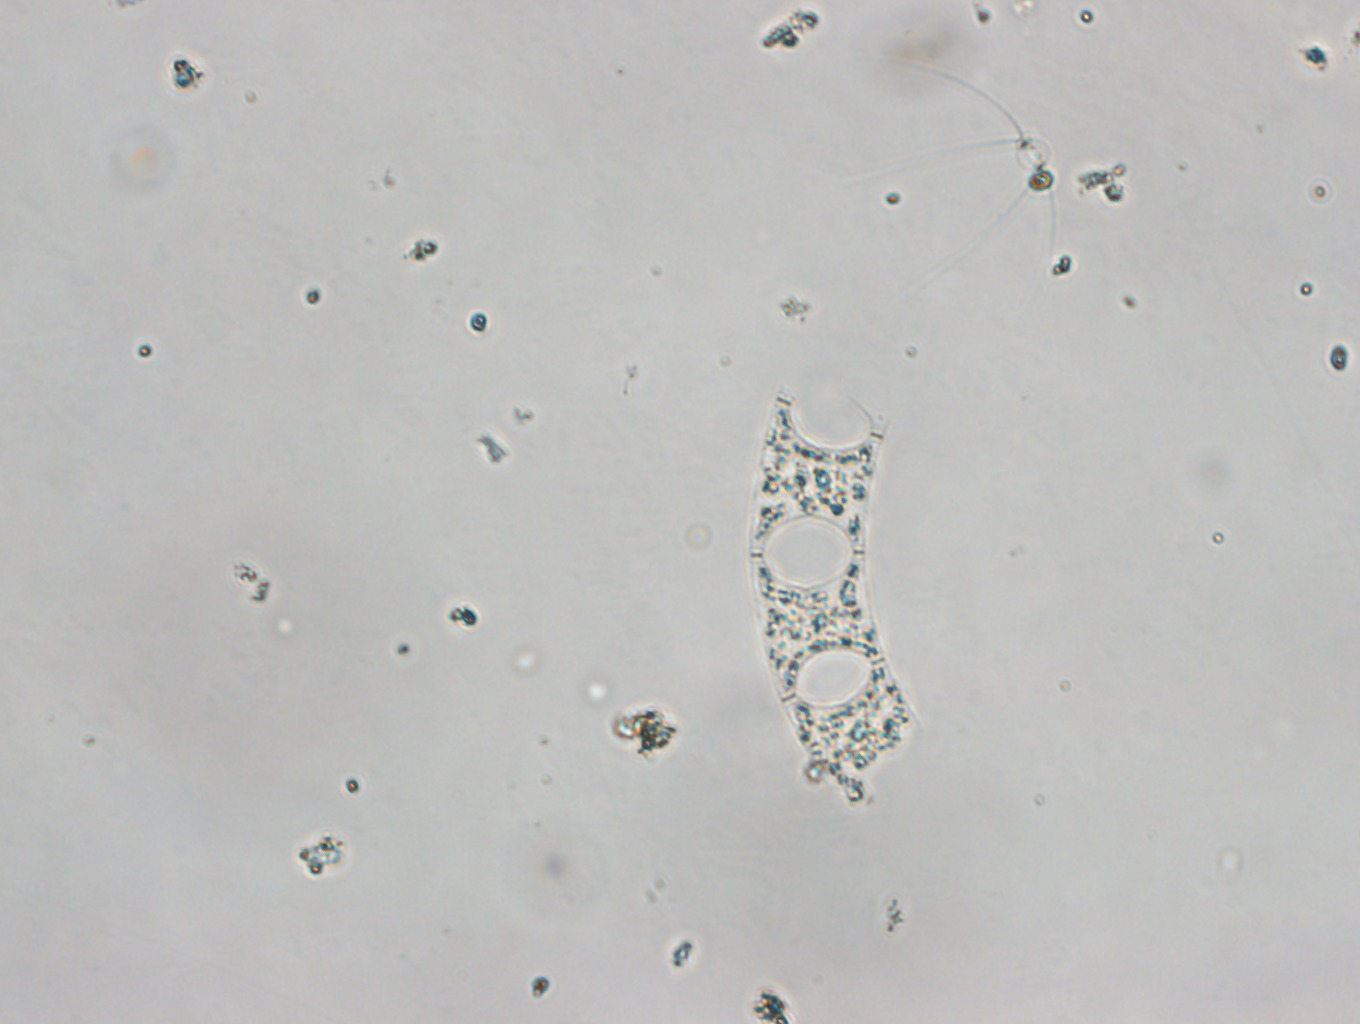eucampia: (739, 381, 927, 803)
